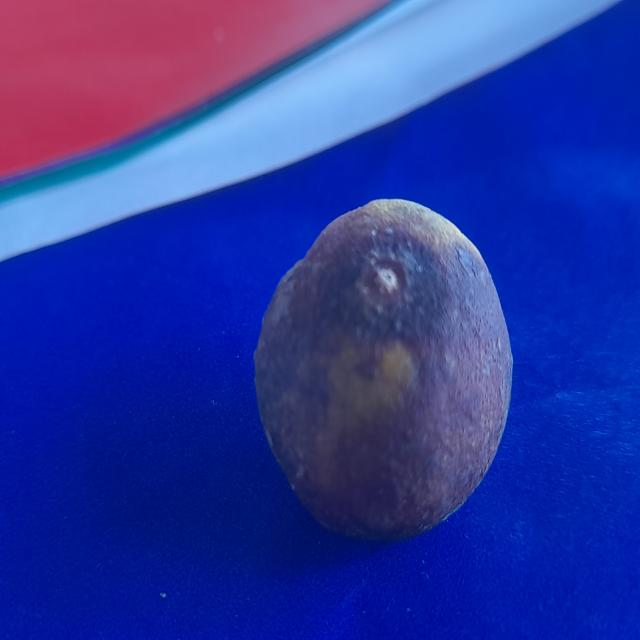black spot: (258, 184, 524, 554)
